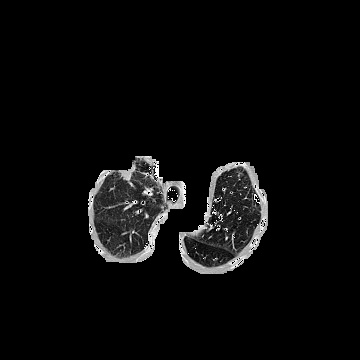PN: (118, 161, 134, 177)
